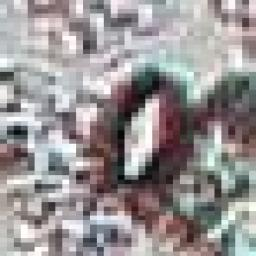crystals: (102, 74, 186, 192)
